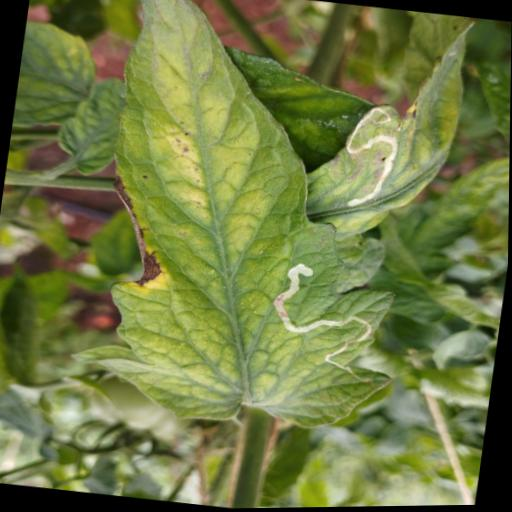Early Blight: (53, 0, 445, 448)
Leaf_Miner: (260, 259, 396, 398), (319, 102, 407, 224)
